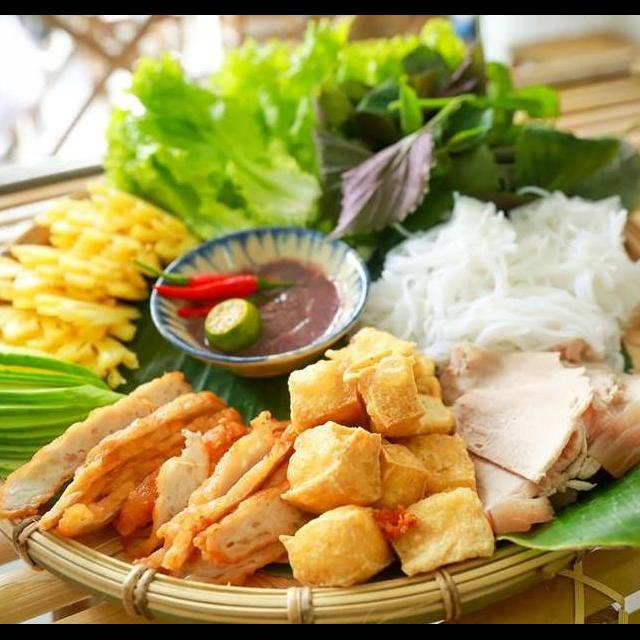bun: (342, 177, 640, 378)
bun dau: (0, 64, 640, 624)
cha com: (0, 361, 308, 597)
dau hu: (276, 322, 502, 596)
thit heo: (432, 335, 640, 544)
